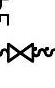terminator_splicing_kits: (6, 42, 34, 63)
